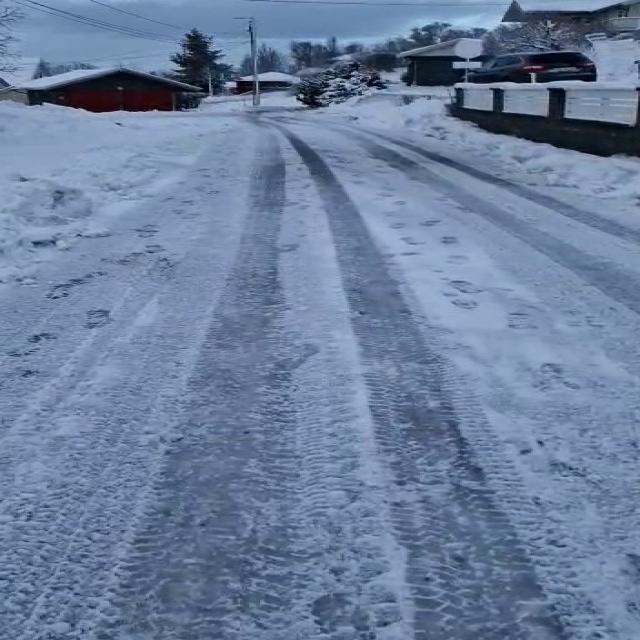path: (2, 111, 638, 640)
